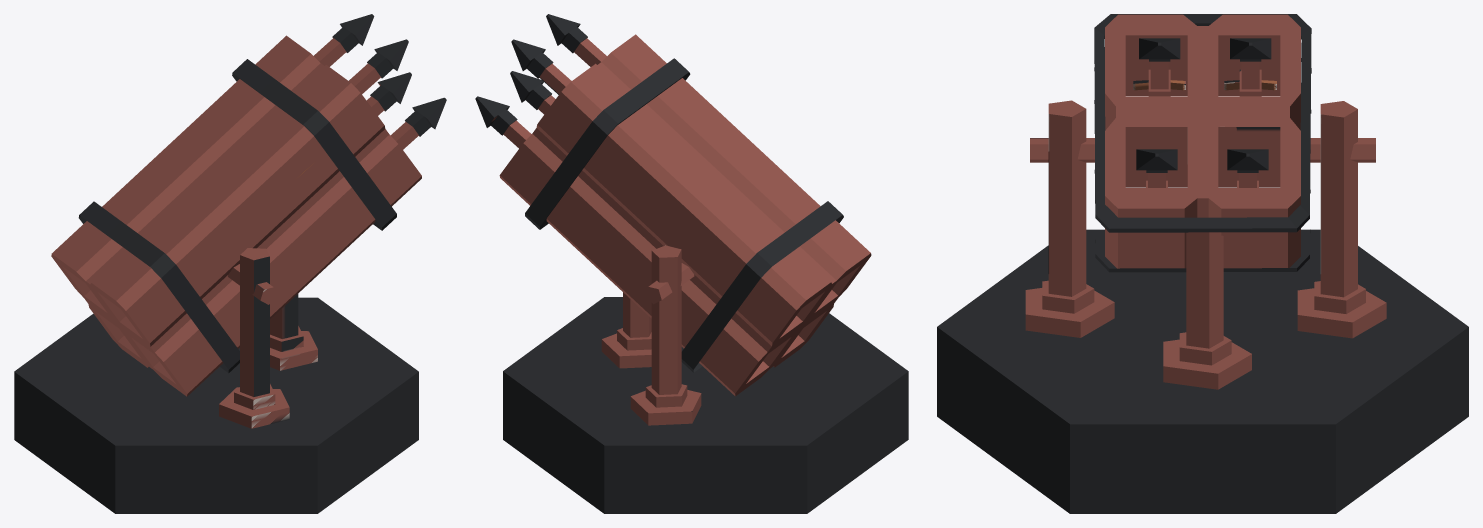
Rendered from Tower_3.fbx.
3 views of the same model, side by side, from view 1: azimuth 30°, elevation 25°; view 2: azimuth 150°, elevation 25°; view 3: azimuth 270°, elevation 25° (orthographic). The views are drawn at different scales.
Visible parts, largest first — view 1: Cube.005; view 2: Cube.005; view 3: Cube.005.
Part boxes in pixels (bbox=[...]): Cube.005: bbox=[14, 14, 446, 513]; Cube.005: bbox=[475, 14, 908, 513]; Cube.005: bbox=[937, 14, 1468, 513].
Size of the model in its own units: 449 by 436 by 433.
Materials: 1 (1 with a texture image).
